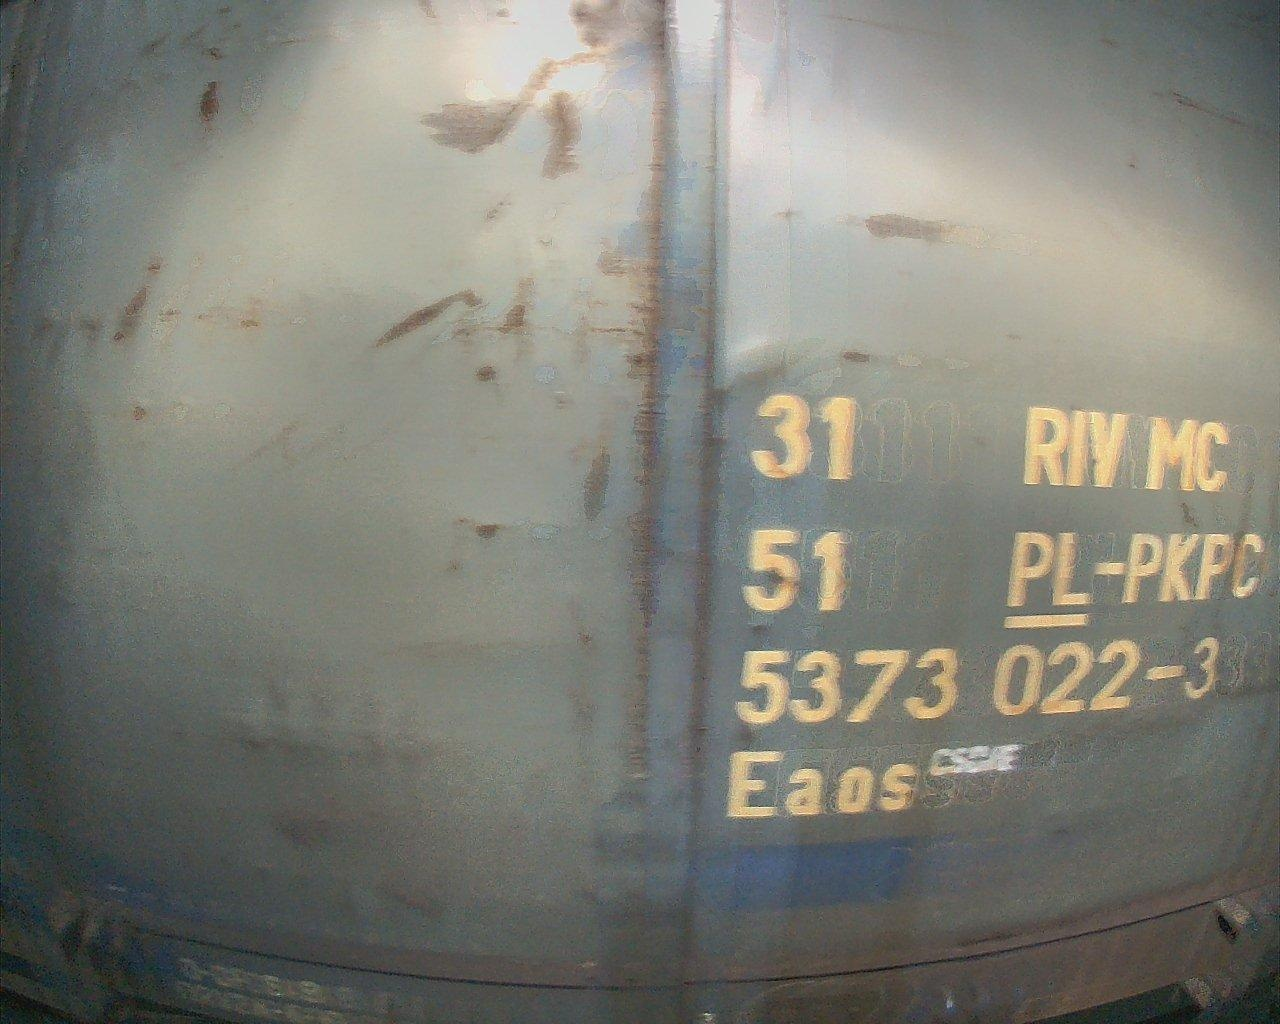UIC: (723, 385, 1266, 825)
